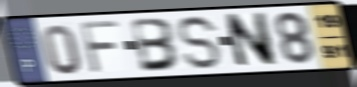0: (40, 21, 85, 76)
8: (273, 10, 316, 66)
B: (130, 16, 182, 74)
F: (77, 20, 121, 76)
N: (222, 10, 279, 70)
S: (176, 14, 224, 72)
